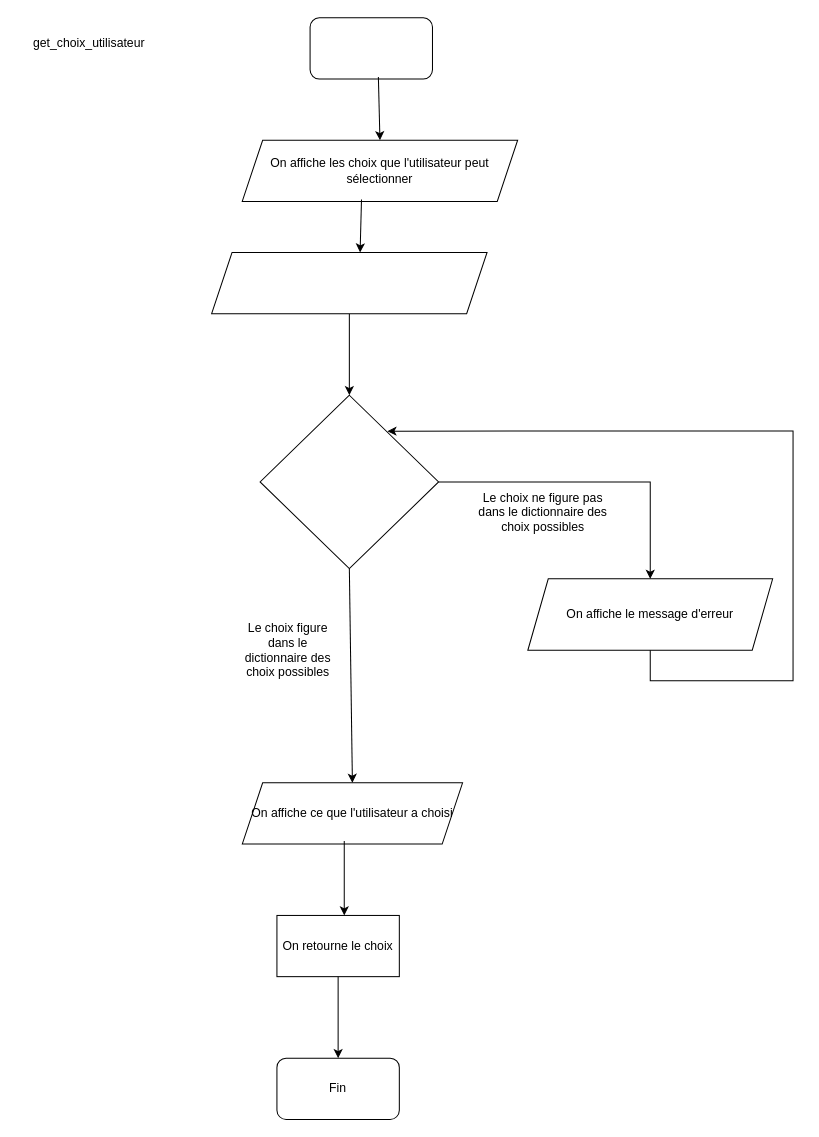
The diagram is 819 pixels wide and 1137 high, and some of its shapes have lost their labels. The centre of each missing label's shape, as x and y in pixels:
Choix de l'utilisateur: pixel 349 282
Début: pixel 370 48
Selon le choix de l'utilisateur: pixel 349 481
